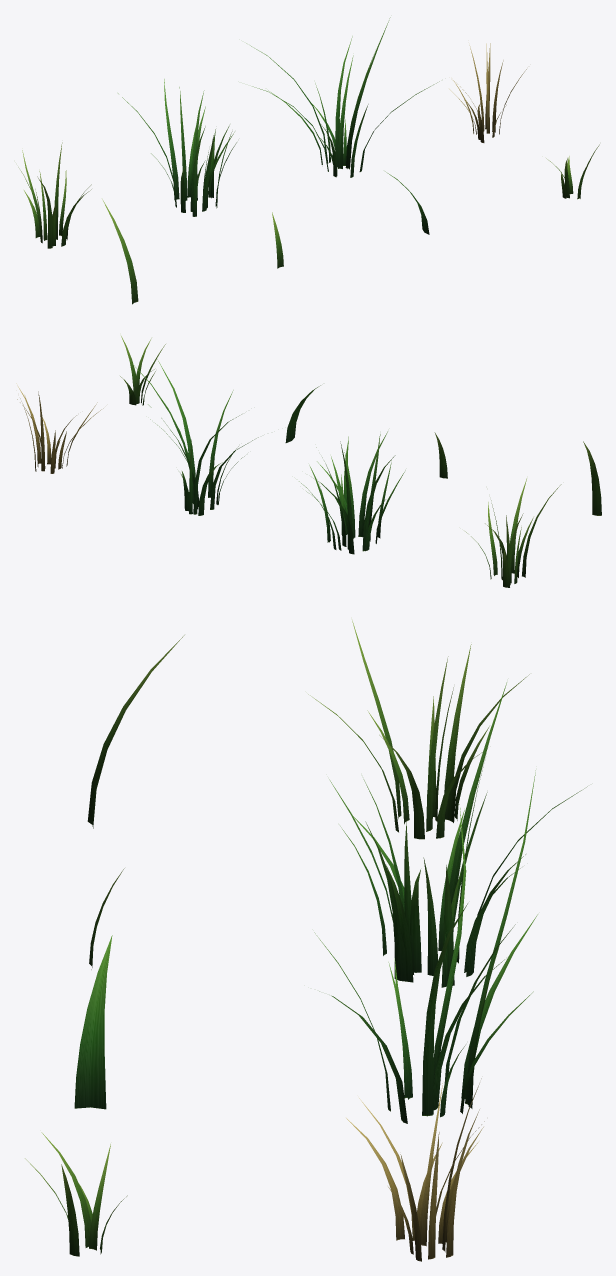
Rendered from GrassPack.glb.
The picture shows the model from 3 angles, top to bottom: view 1: azimuth 30°, elevation 25°; view 2: azimuth 150°, elevation 25°; view 3: azimuth 270°, elevation 25°; orthographic projection. The views are drawn at different scales.
Visible parts, largest first — view 1: Grass_Tuft_Large, Grass_Tuft_Wild, Grass_Tuft_Medium, Grass_Tuft_Dry, Grass_Blade_Tall, Grass_Tuft_Small; view 2: Grass_Tuft_Large, Grass_Tuft_Wild, Grass_Tuft_Medium, Grass_Tuft_Dry, Grass_Tuft_Small, Grass_Blade_Tall, Grass_Blade_Wide; view 3: Grass_Tuft_Large, Grass_Tuft_Wild, Grass_Tuft_Medium, Grass_Tuft_Dry, Grass_Blade_Wide, Grass_Tuft_Small, Grass_Blade_Tall.
Part boxes in pixels (x1,y1,x2,y2): Grass_Tuft_Large: [118, 79, 236, 216]; Grass_Tuft_Wild: [246, 17, 439, 177]; Grass_Tuft_Medium: [18, 142, 91, 248]; Grass_Tuft_Dry: [449, 43, 526, 142]; Grass_Blade_Tall: [102, 199, 138, 304]; Grass_Tuft_Small: [546, 144, 599, 199]; Grass_Tuft_Large: [299, 431, 405, 554]; Grass_Tuft_Wild: [129, 359, 258, 515]; Grass_Tuft_Medium: [465, 478, 561, 587]; Grass_Tuft_Dry: [16, 383, 103, 473]; Grass_Tuft_Small: [120, 336, 165, 405]; Grass_Blade_Tall: [583, 441, 601, 515]; Grass_Blade_Wide: [285, 385, 320, 442]; Grass_Tuft_Large: [329, 682, 587, 987]; Grass_Tuft_Wild: [314, 770, 537, 1123]; Grass_Tuft_Medium: [308, 620, 529, 839]; Grass_Tuft_Dry: [346, 1078, 484, 1261]; Grass_Blade_Wide: [74, 935, 112, 1109]; Grass_Tuft_Small: [25, 1132, 127, 1256]; Grass_Blade_Tall: [87, 635, 184, 828].
Bounding box in the file's own units: 13.96 × 3.51 × 6.84.
3 materials, 3 textured.
